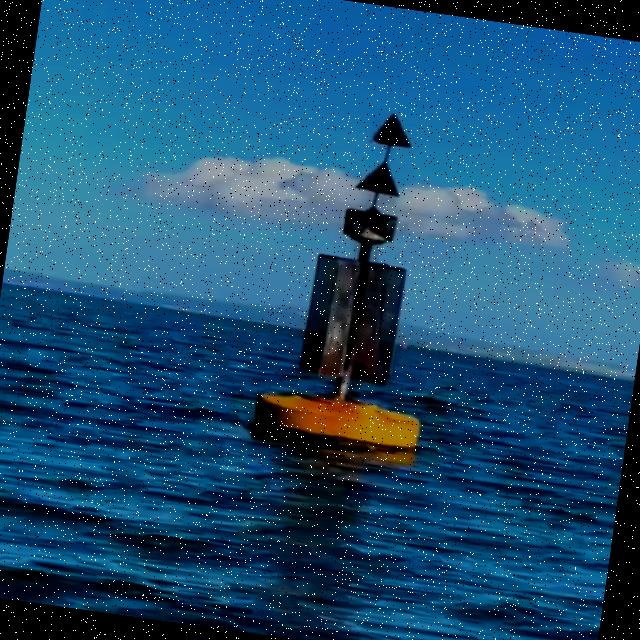marque: (257, 104, 464, 466)
